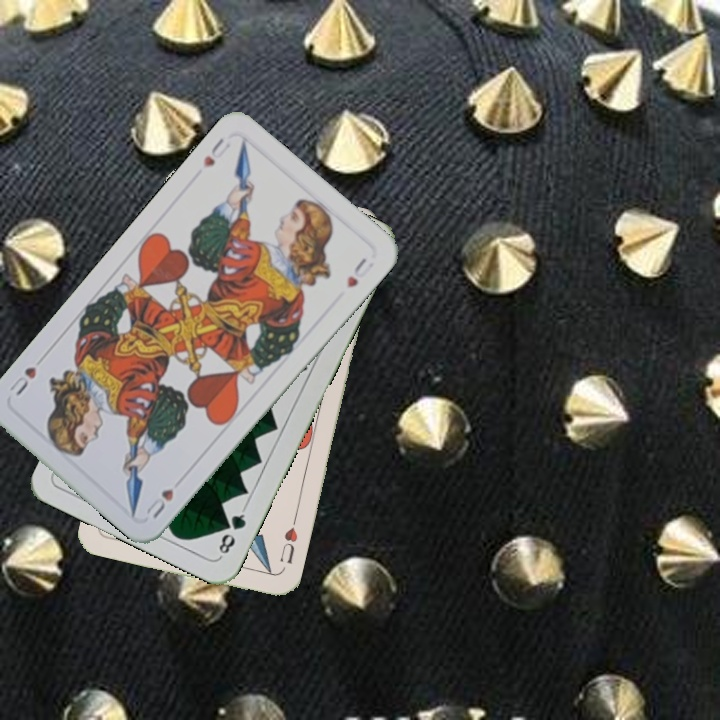G8: (214, 504, 249, 560)
HU: (275, 515, 300, 567), (142, 484, 177, 521), (199, 134, 233, 171)
